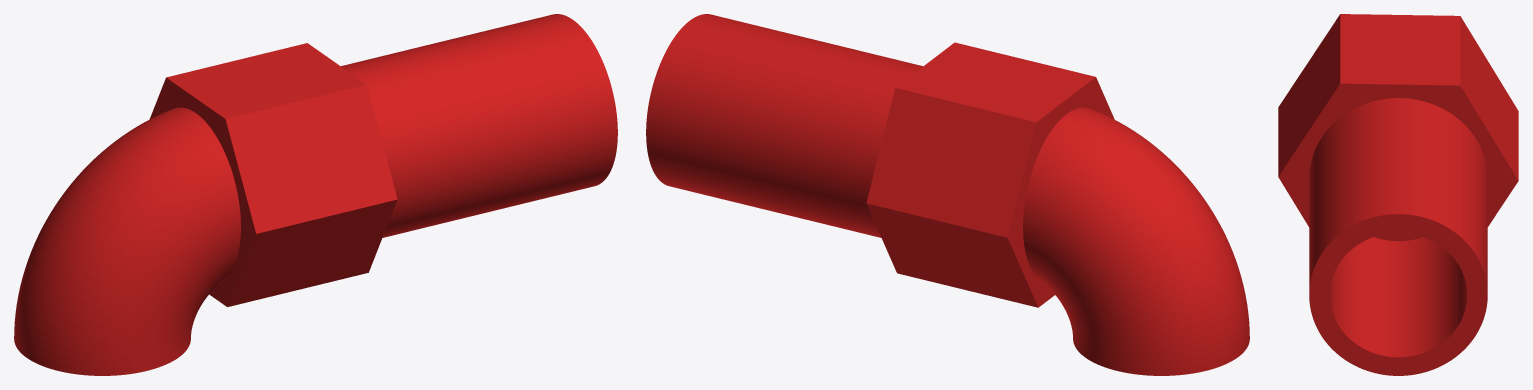
The model's file is 0_colored.obj.
The picture shows the model from 3 angles, left to right: view 1: azimuth 30°, elevation 25°; view 2: azimuth 150°, elevation 25°; view 3: azimuth 270°, elevation 25°; orthographic projection.
Size of the model in its own units: 0.0465 by 0.0177 by 0.0175.
